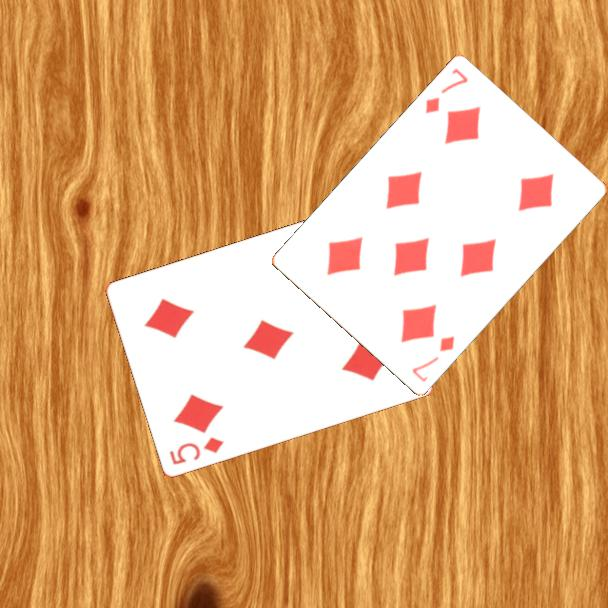d05: (166, 434, 226, 468)
d07: (408, 333, 458, 386), (422, 65, 471, 117)
